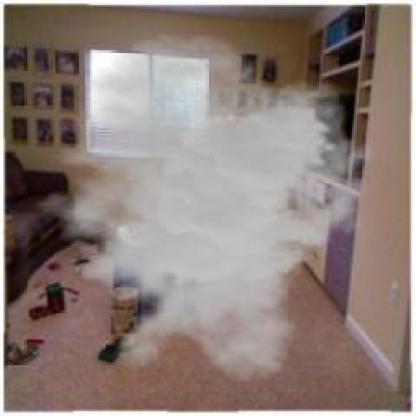Smoke: (18, 33, 377, 385)
